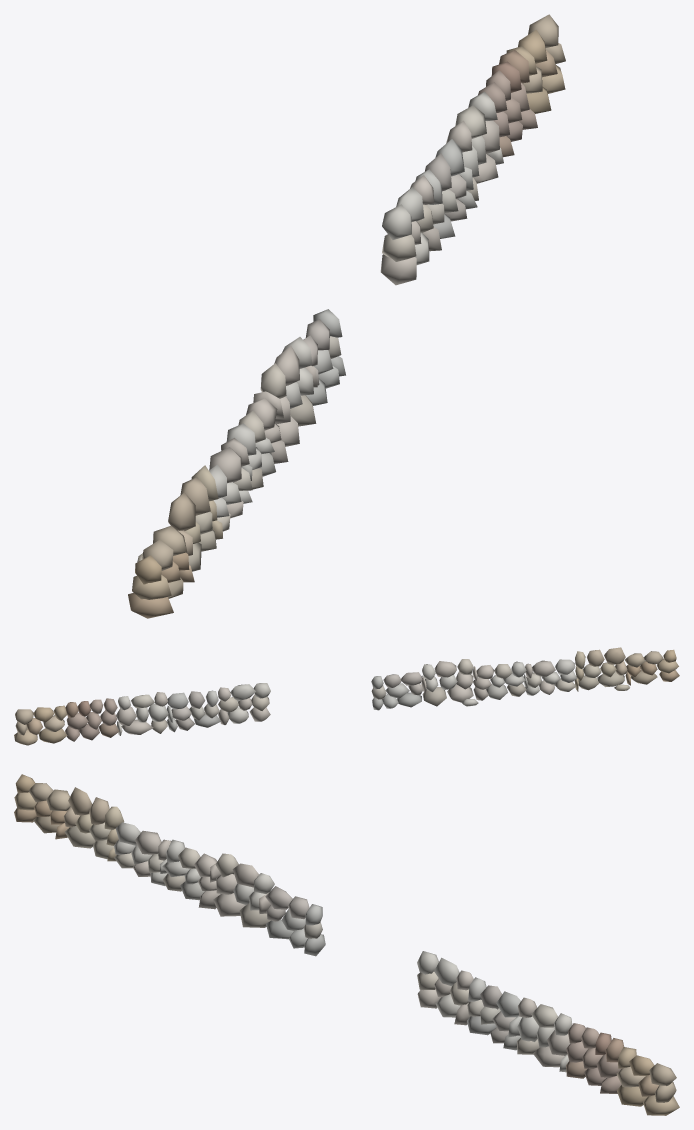
The model's file is farm_19_22_near.glb.
The picture shows the model from 3 angles, top to bottom: view 1: azimuth 30°, elevation 25°; view 2: azimuth 150°, elevation 25°; view 3: azimuth 270°, elevation 25°; orthographic projection. The views are drawn at different scales.
Visible parts, largest first — view 1: geometry_0; view 2: geometry_0; view 3: geometry_0.
Part boxes in pixels (x1,y1,x2,y2): geometry_0: (128,14,565,618); geometry_0: (14,647,679,745); geometry_0: (14,774,679,1115).
Size of the model in its own units: 15.55 by 1.49 by 14.35.
